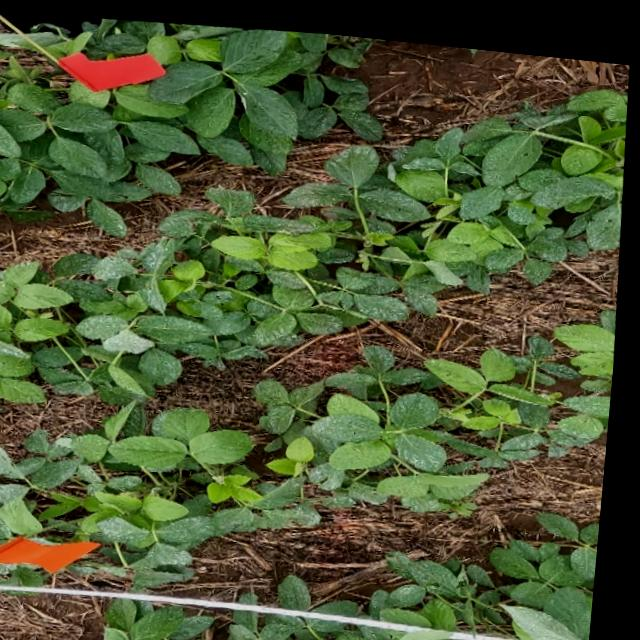soy_plant: (0, 77, 628, 401), (0, 325, 617, 583), (0, 17, 375, 230), (114, 501, 608, 640), (559, 311, 620, 361)
